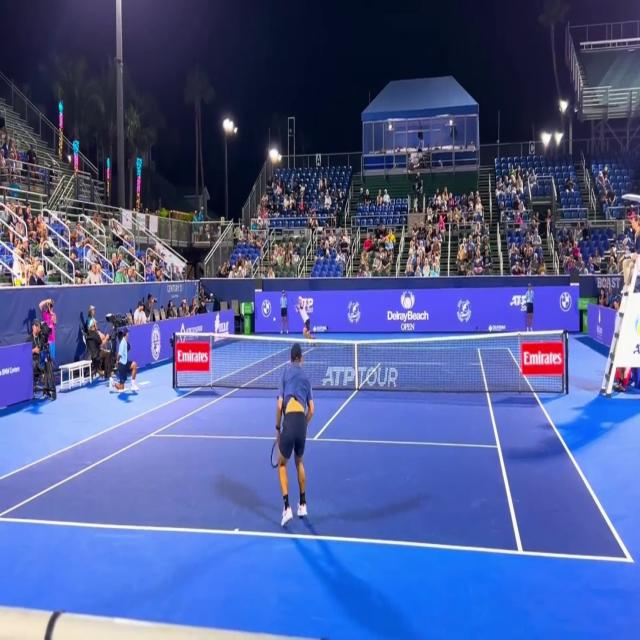tennisBall: (273, 315, 276, 323)
